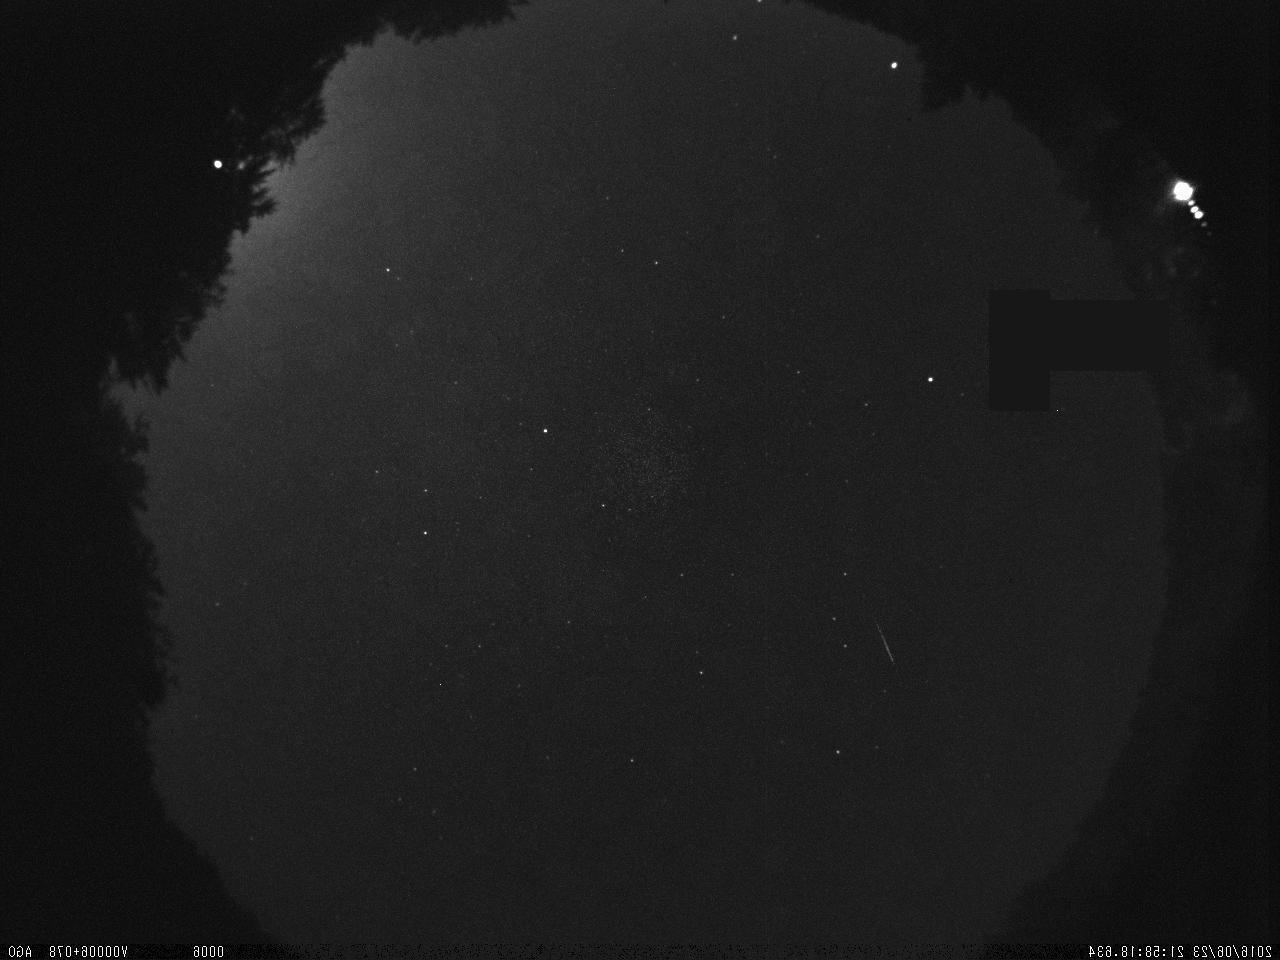meteor: (864, 613, 903, 680)
